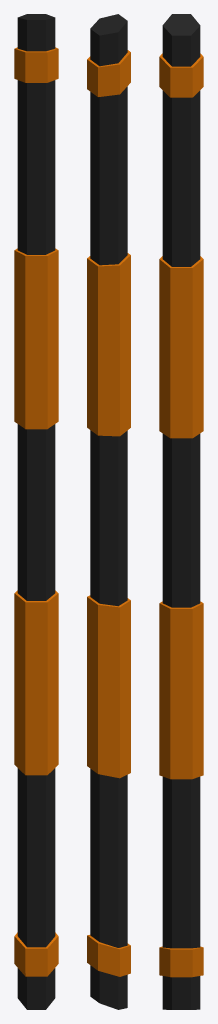
File: Weapon_FM_Quarterstaff.glb
3 renders of one model, left to right at view 1: azimuth 90°, elevation 25°; view 2: azimuth 210°, elevation 25°; view 3: azimuth 270°, elevation 25°, orthographic.
Visible parts, largest first — view 1: Weapon_Quarterstaff; view 2: Weapon_Quarterstaff; view 3: Weapon_Quarterstaff.
Boxes of the visible parts, left/top/right/bottom form: Weapon_Quarterstaff: left=14, top=14, right=58, bottom=1009; Weapon_Quarterstaff: left=87, top=14, right=130, bottom=1009; Weapon_Quarterstaff: left=159, top=14, right=203, bottom=1009.
Size of the model in its own units: 0.0628 by 1.8 by 0.0725.
